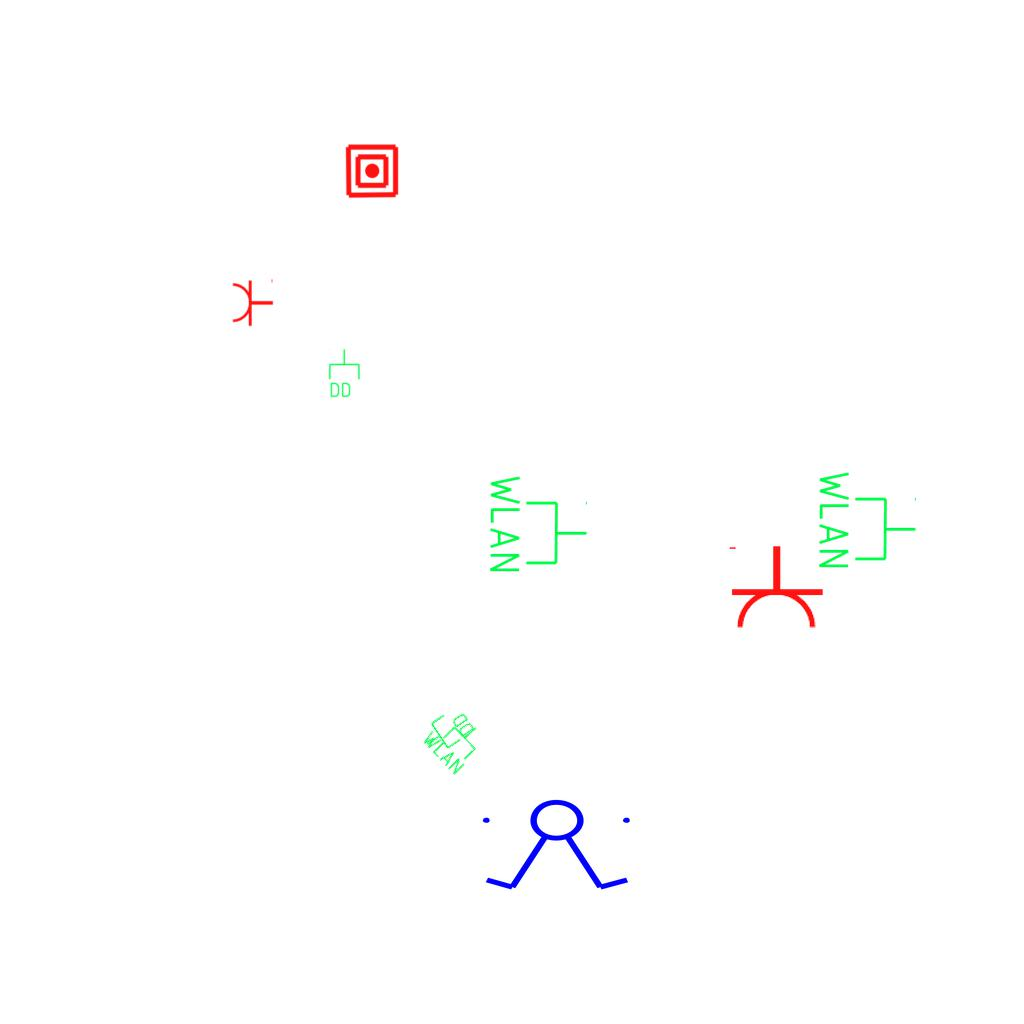Datenanschluss_zweifach: (416, 702, 479, 760), (327, 348, 361, 399)
NAM-Nichtautomatischer_Melder: (344, 143, 400, 199)
Schukosteckdose_einfach: (725, 544, 825, 631), (231, 277, 274, 327)
Serienschalter: (474, 798, 642, 894)
WLAN: (815, 467, 919, 572), (486, 471, 590, 576), (418, 704, 492, 778)
